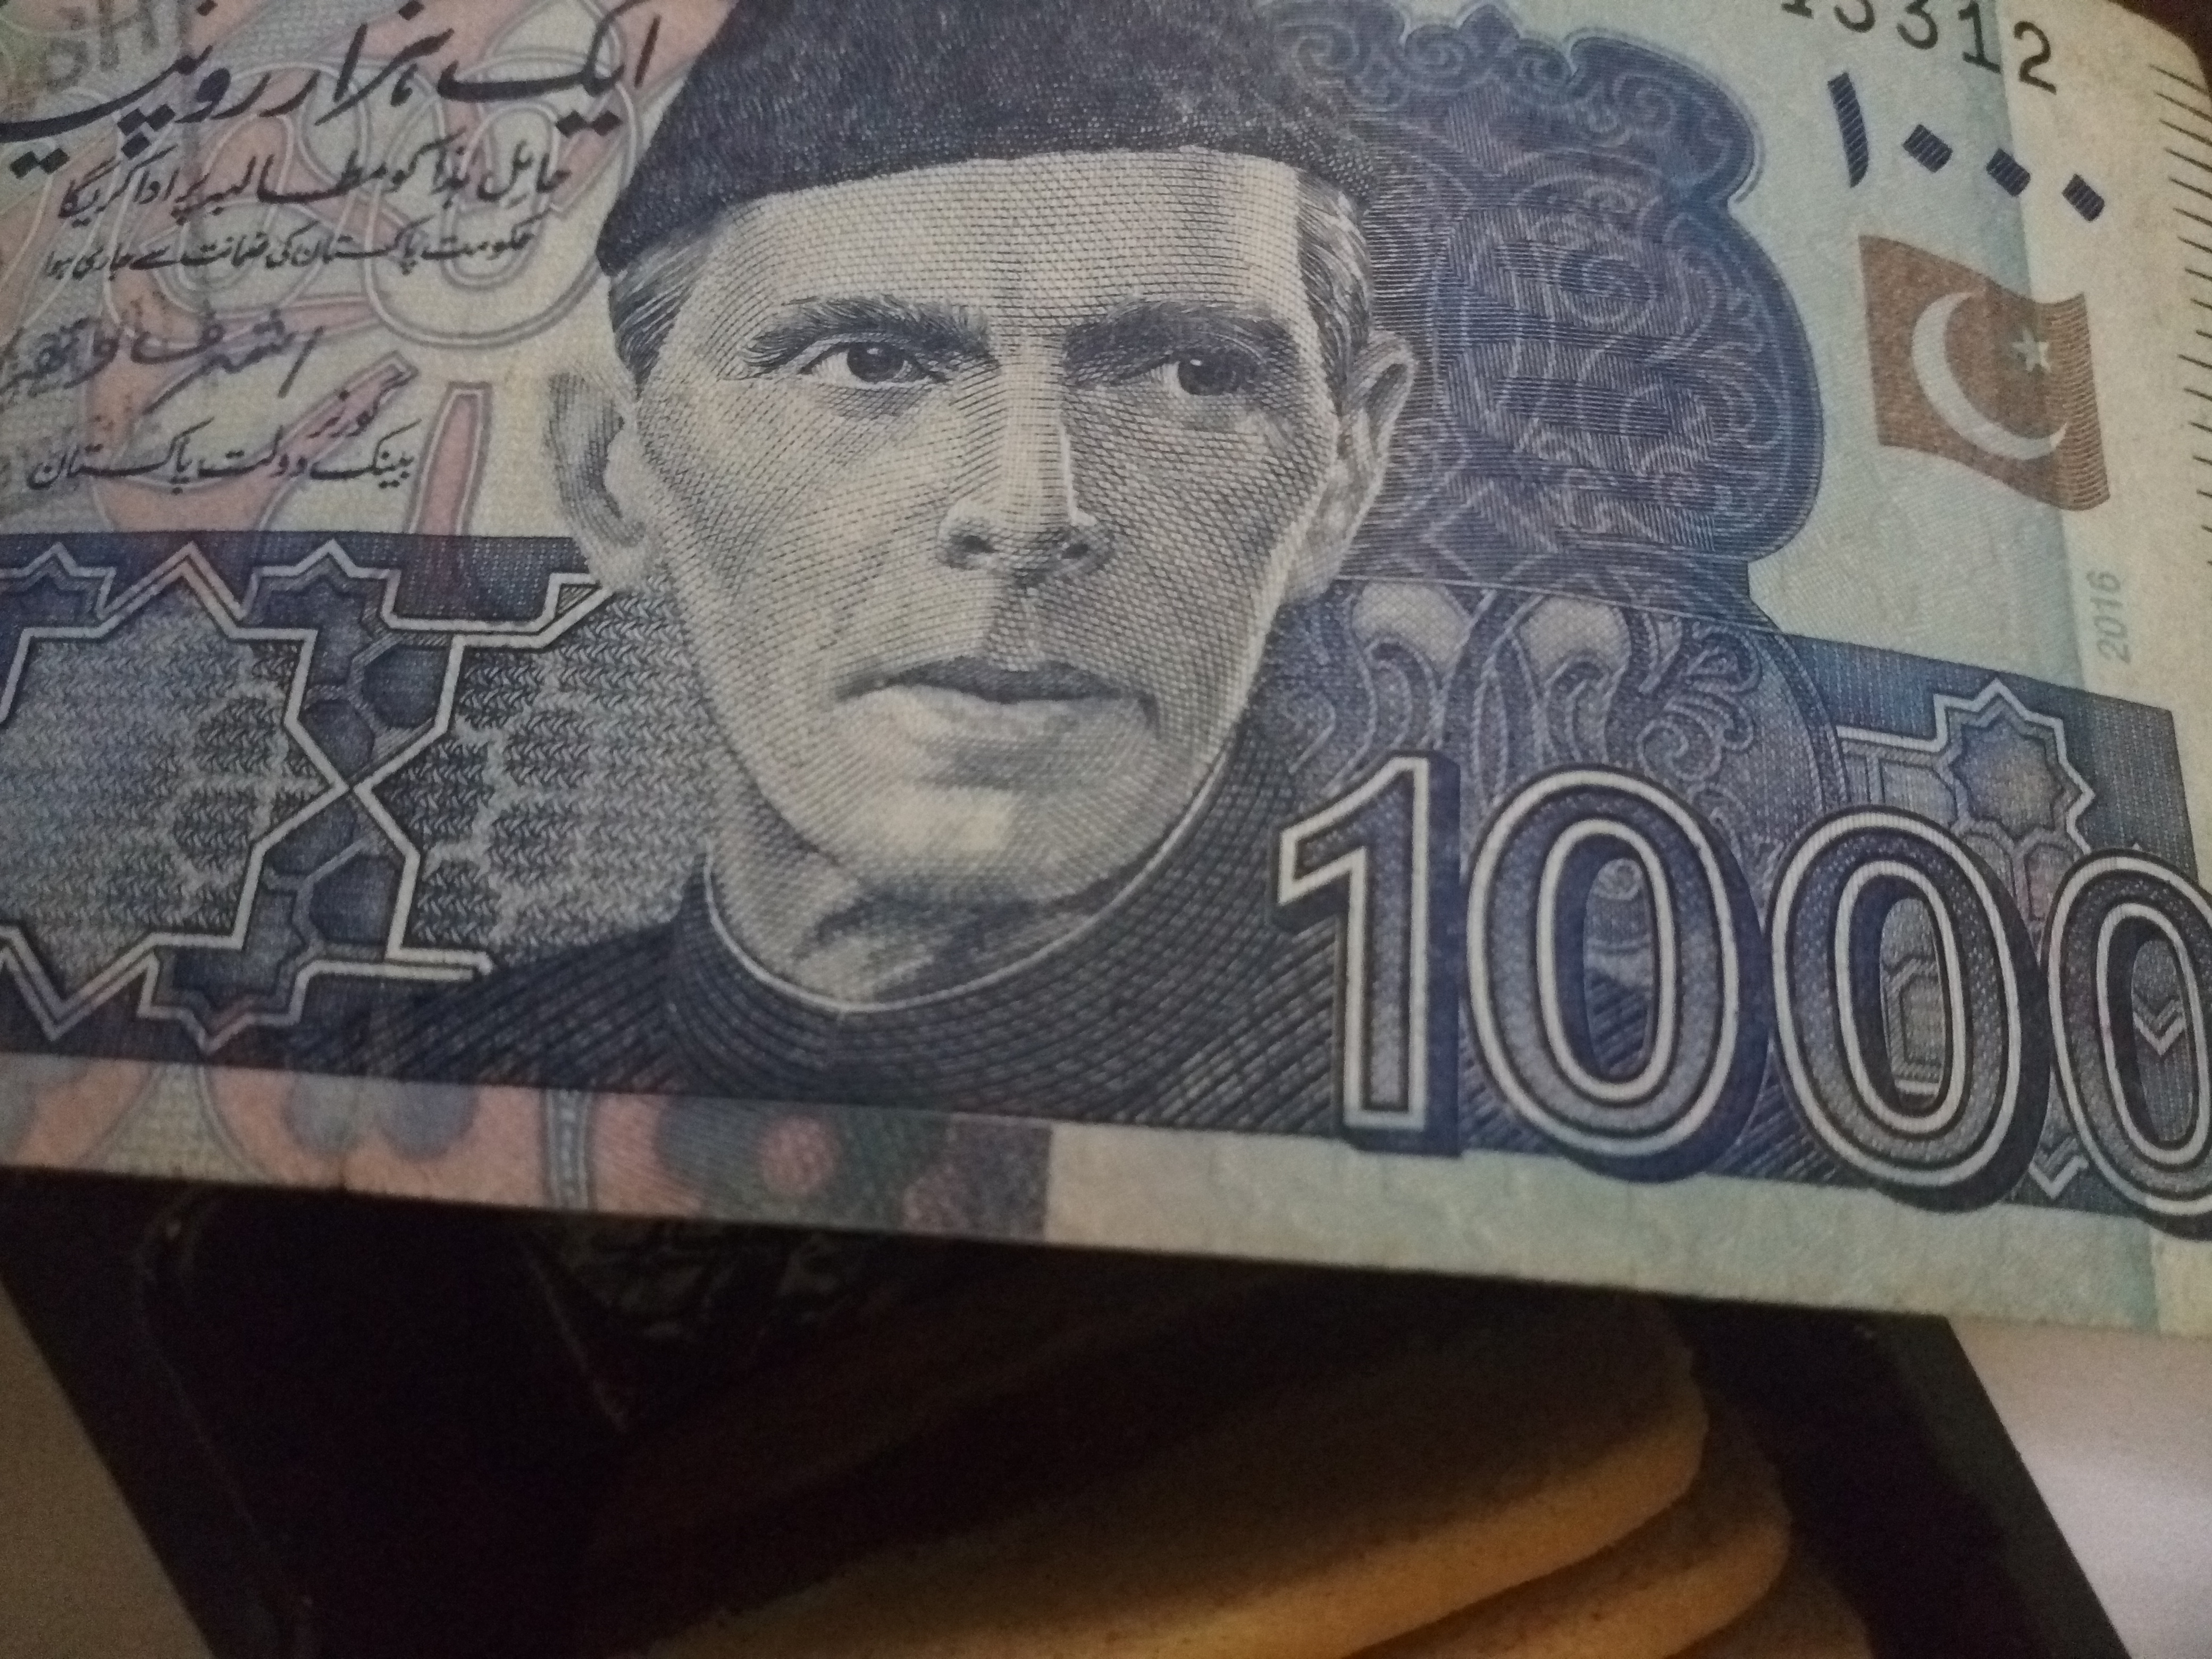1000 rupee: (30, 24, 2200, 1316)
